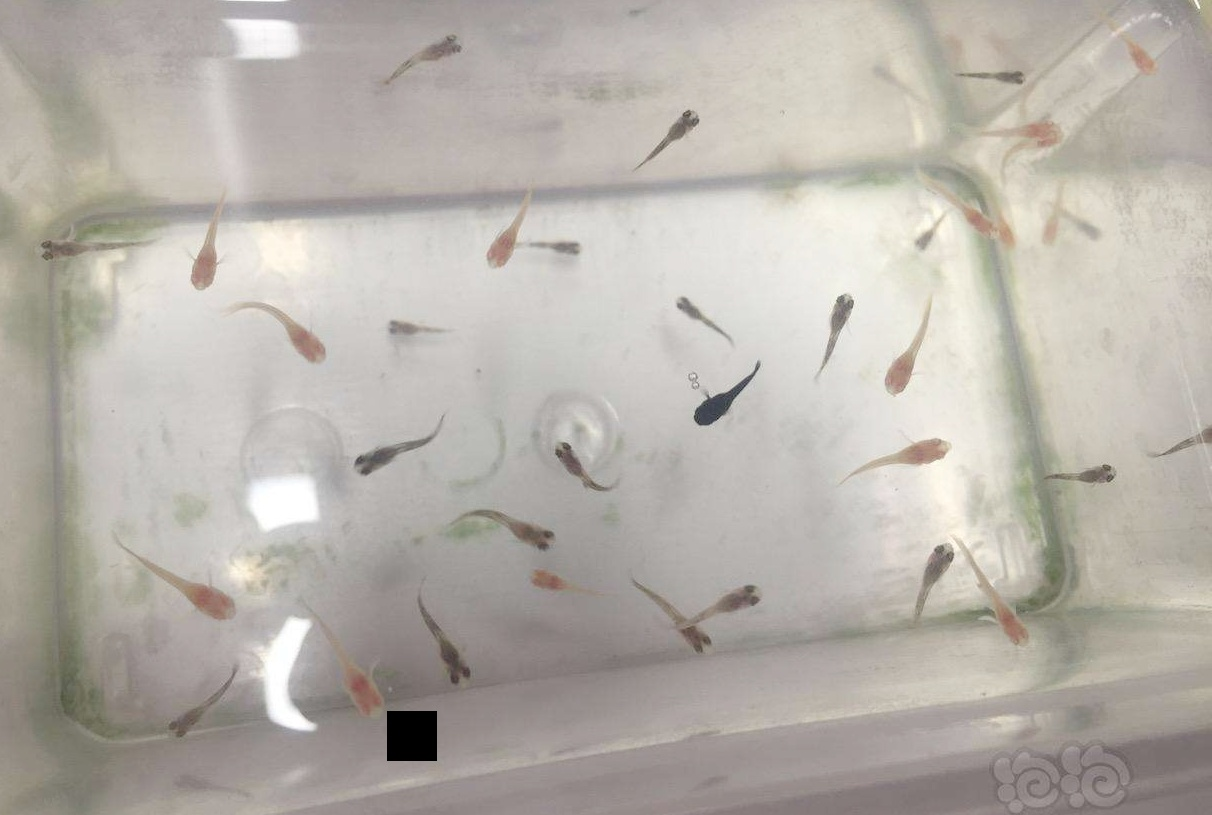fry: (133, 535, 258, 637), (306, 632, 400, 748), (627, 88, 730, 176), (135, 673, 248, 753), (239, 287, 340, 372), (455, 183, 539, 279), (330, 412, 437, 487), (371, 21, 492, 86), (971, 559, 1045, 663), (165, 203, 242, 302), (543, 427, 639, 506), (856, 425, 969, 492), (13, 219, 158, 267), (453, 499, 572, 556), (421, 592, 482, 702), (664, 369, 766, 431), (879, 309, 940, 412), (904, 528, 961, 637), (650, 590, 721, 676), (679, 577, 804, 624), (666, 274, 740, 351), (806, 283, 865, 376), (513, 559, 608, 611), (1146, 405, 1212, 473), (895, 212, 965, 272), (374, 308, 459, 356), (1036, 447, 1124, 493), (975, 172, 1020, 261), (1024, 180, 1074, 257), (997, 135, 1072, 183), (959, 53, 1042, 95), (1104, 24, 1162, 80), (972, 105, 1064, 140), (950, 192, 1001, 251), (526, 225, 594, 267), (1068, 205, 1114, 244)
